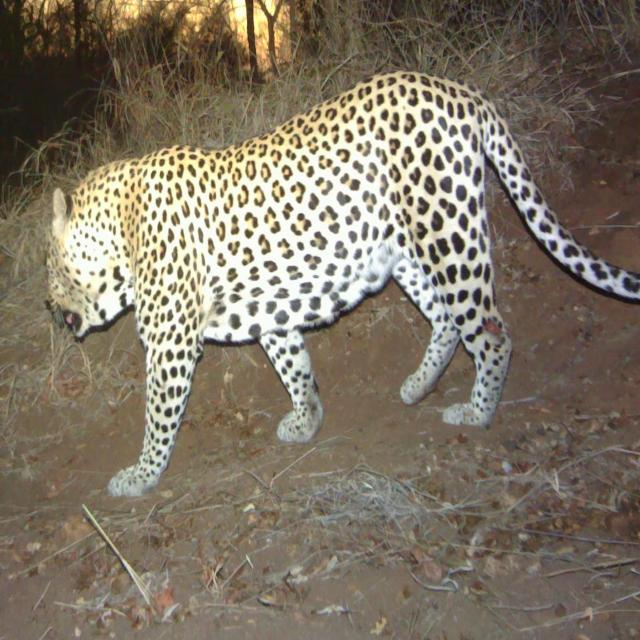Leopard: (31, 57, 640, 487)
